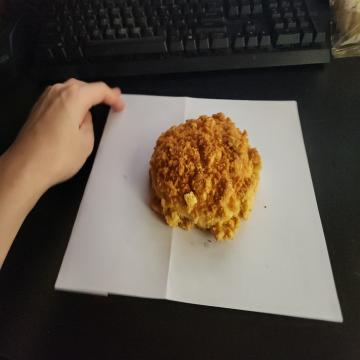soboru_bread: (151, 109, 262, 246)
